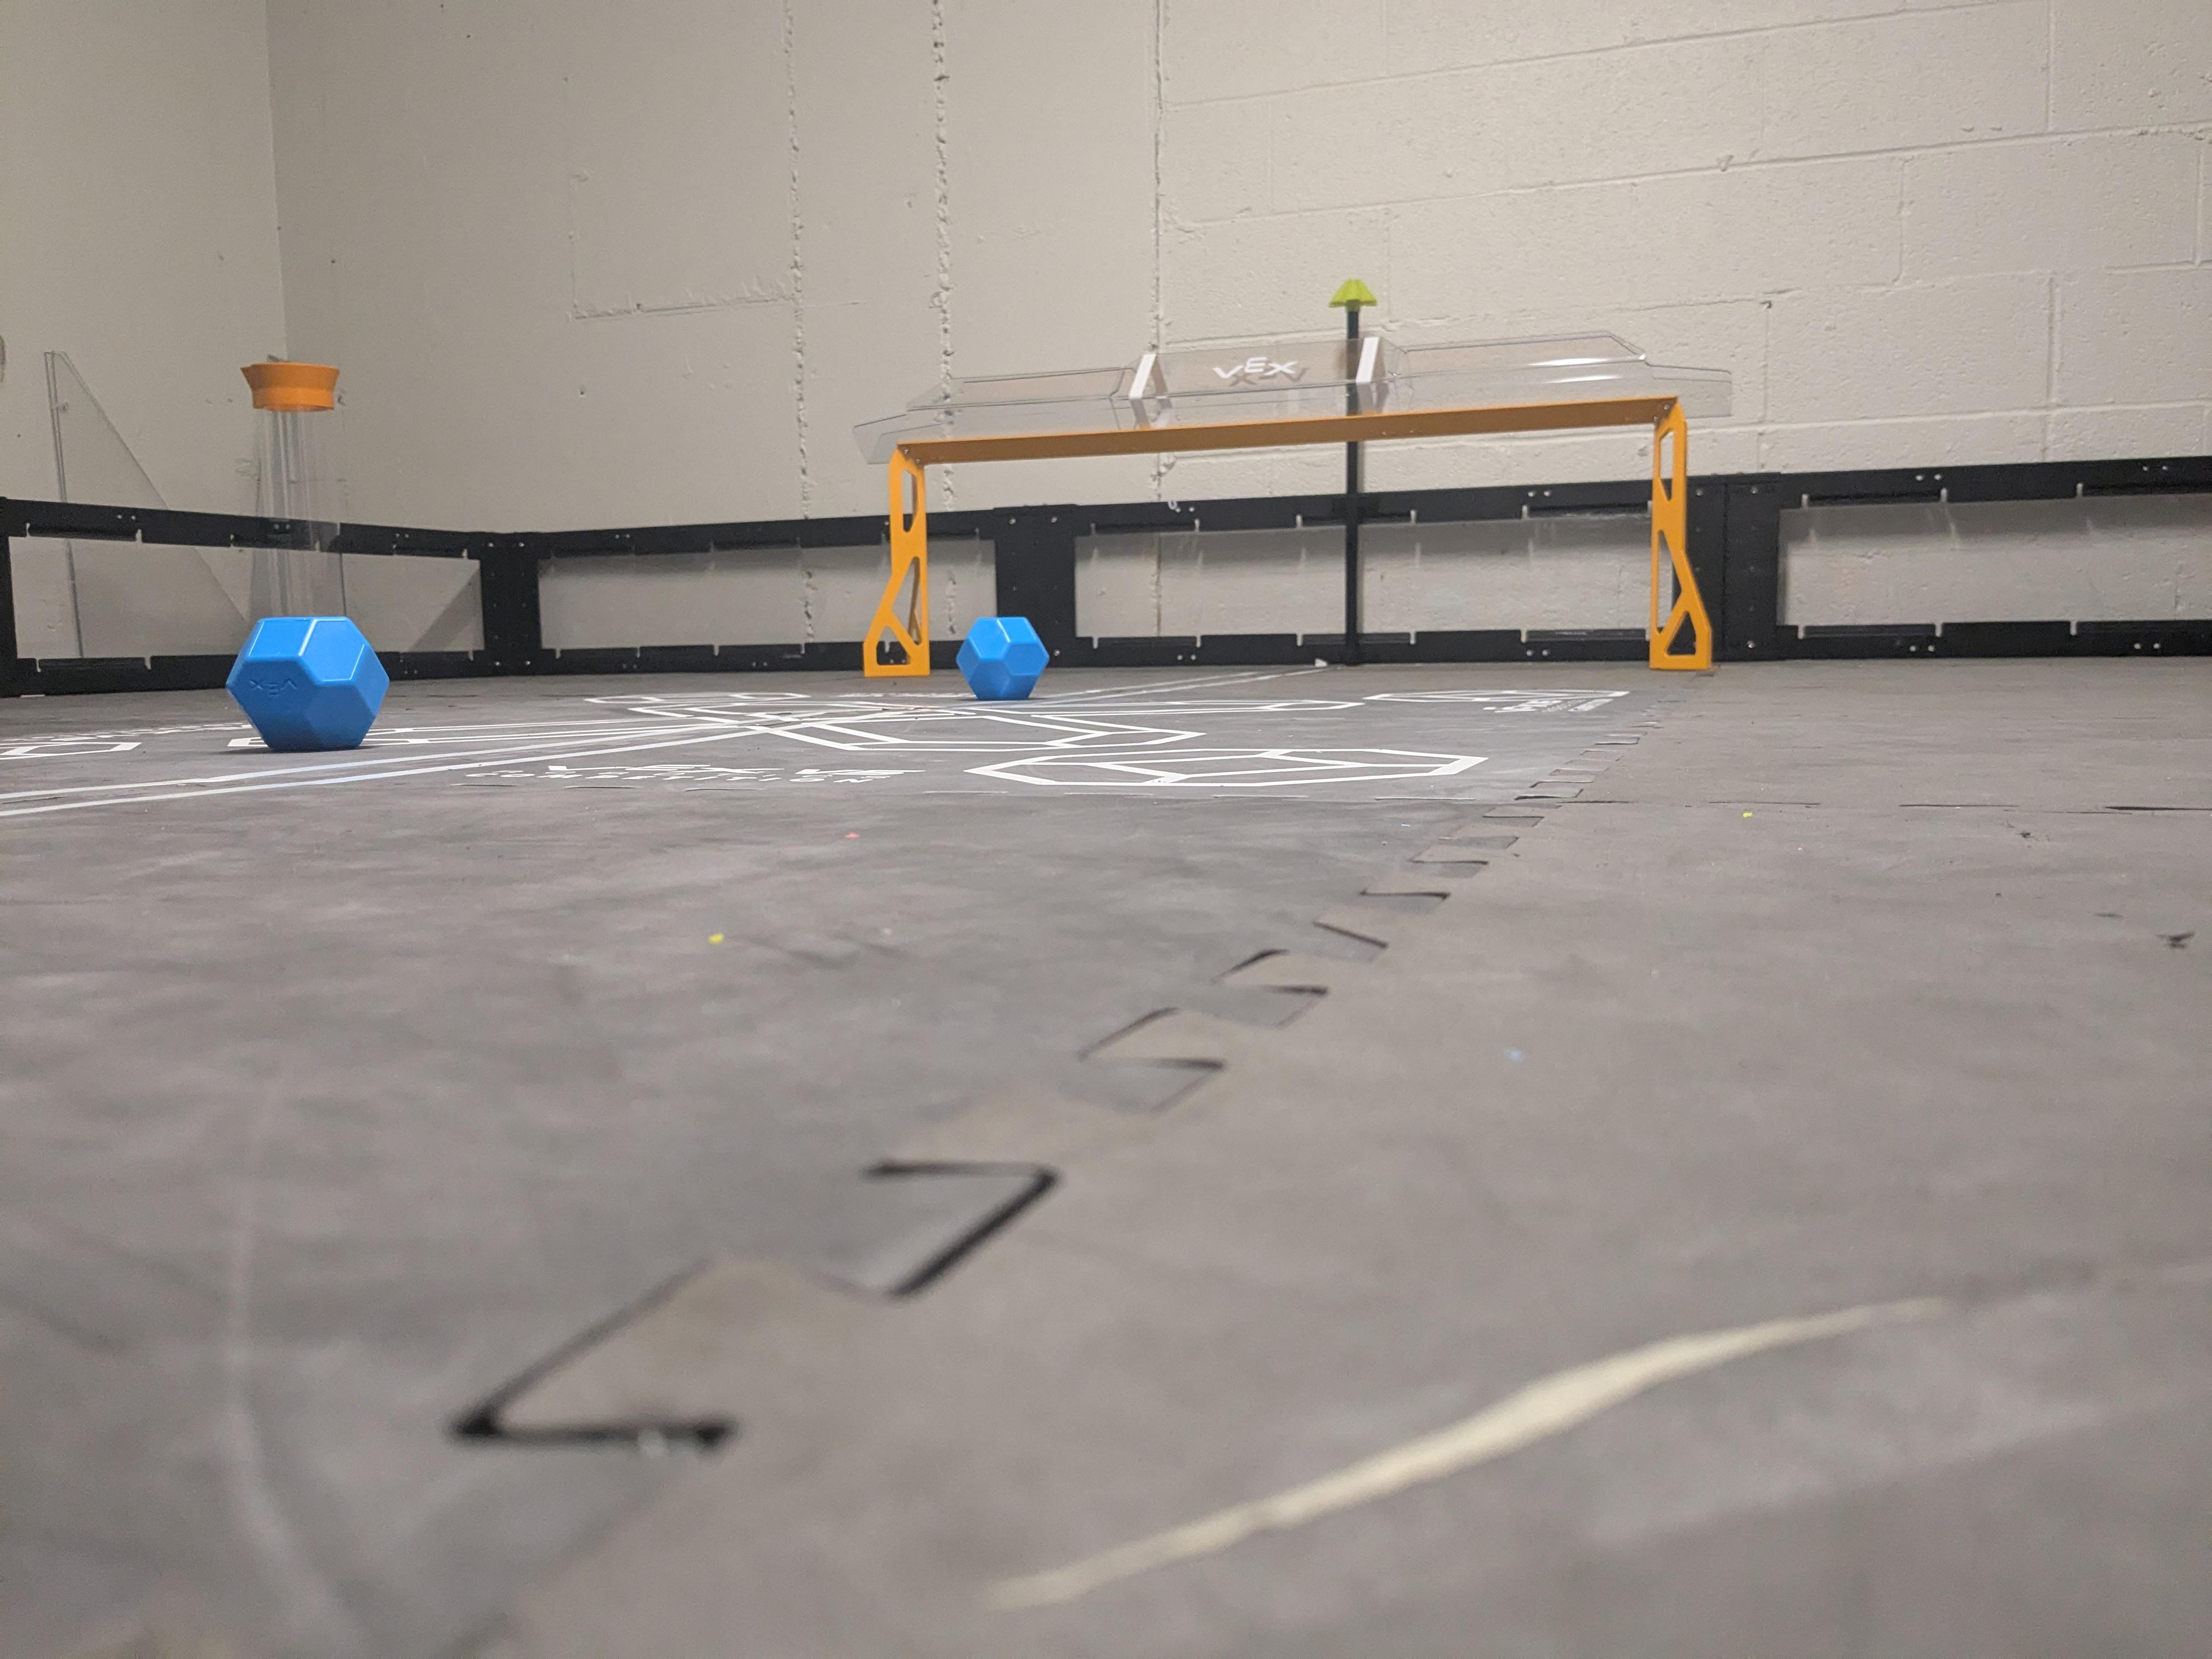Vex-Pieces-BLUE: (228, 613, 387, 746), (961, 619, 1047, 701)
